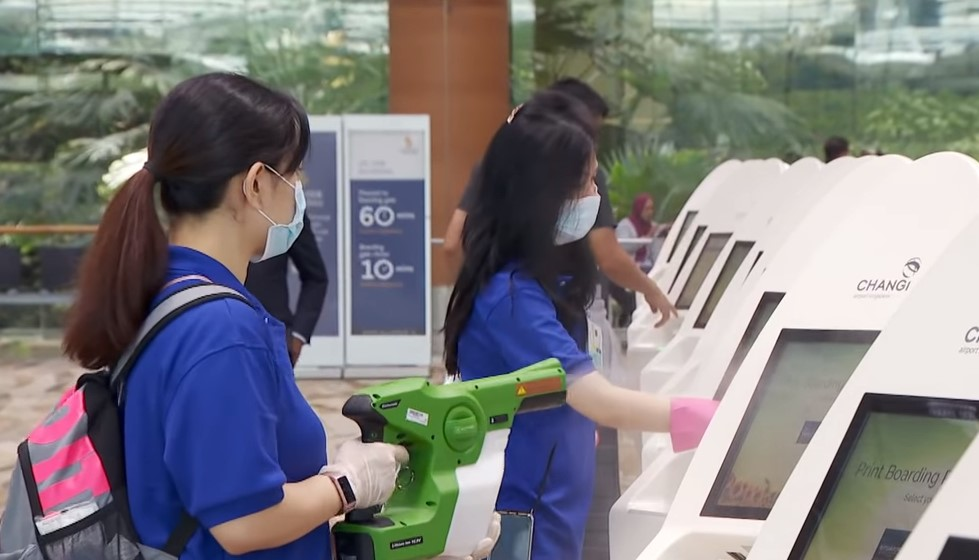face_with_mask: (152, 73, 309, 262), (494, 108, 603, 254)
